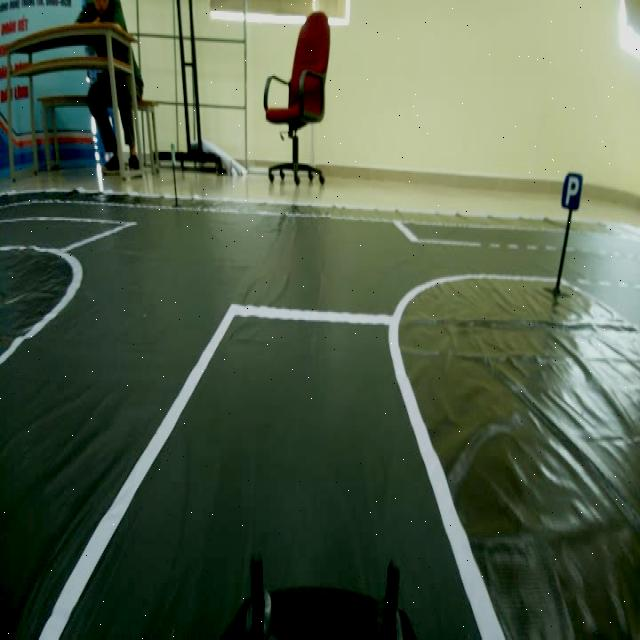parking: (558, 168, 586, 217)
